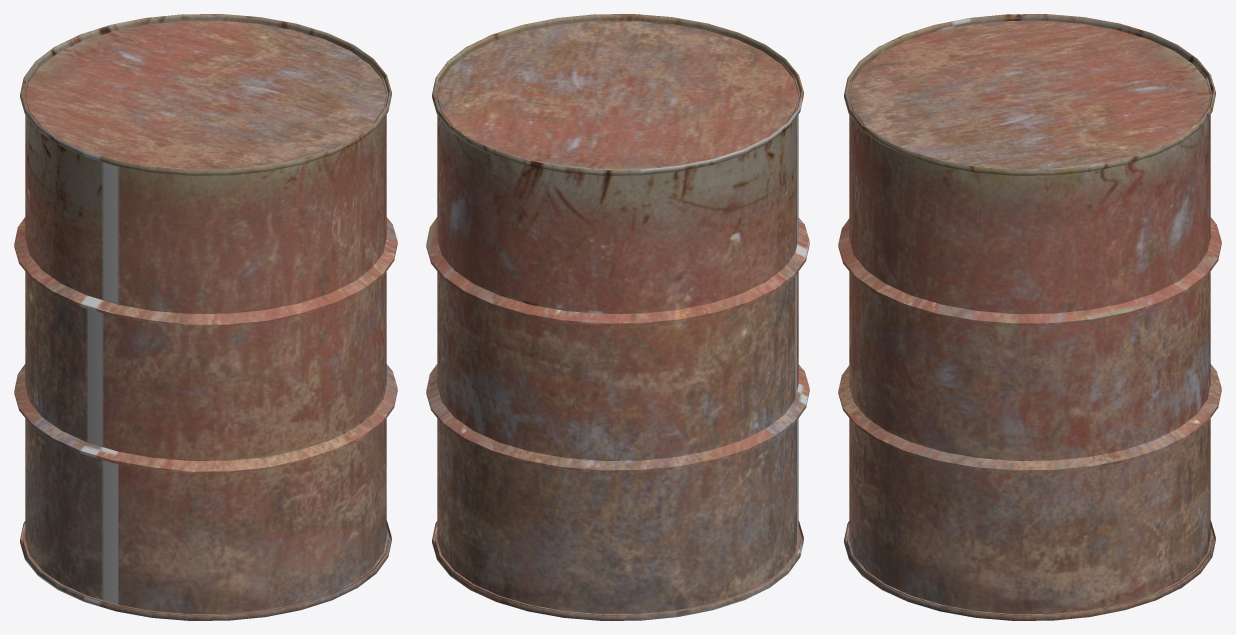
The model's file is barril3.obj.
The picture shows the model from 3 angles, left to right: view 1: azimuth 30°, elevation 25°; view 2: azimuth 150°, elevation 25°; view 3: azimuth 270°, elevation 25°; orthographic projection.
Visible parts, largest first — view 1: Cylinder001; view 2: Cylinder001; view 3: Cylinder001.
Part boxes in pixels (x1,y1,x2,y2): Cylinder001: (14,14,397,620); Cylinder001: (426,14,809,620); Cylinder001: (838,14,1221,620).
Size of the model in its own units: 106 by 138 by 106.
1 material, 1 textured.
